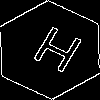H: (25, 25, 85, 83)
